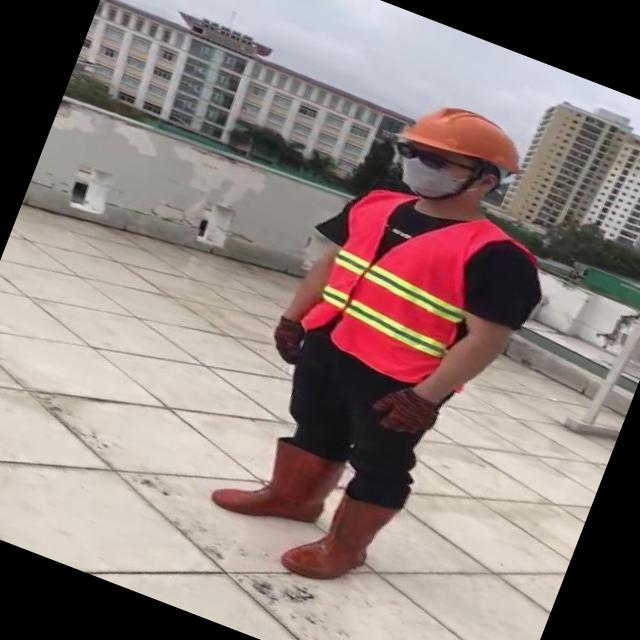hard_hat: (390, 84, 534, 184)
safety_vest: (293, 173, 520, 403)
vehicle: (184, 70, 596, 633)
work_boots: (208, 423, 343, 542), (283, 481, 397, 598)
